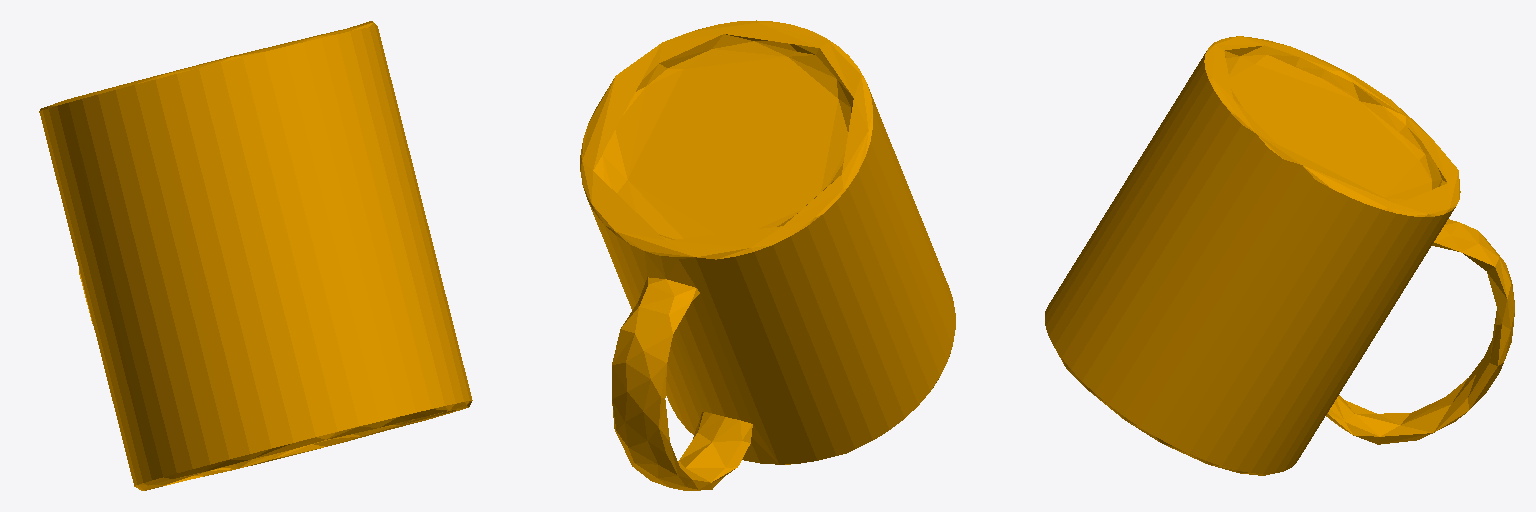
The robot description file, URDF, robot "e94e46bc5833f2f5e57b873e4f3ef3a4":
<?xml version="1.0"?>
<robot name="e94e46bc5833f2f5e57b873e4f3ef3a4">
  <link name="base_link">
    <contact>
      <lateral_friction value="1.0"/>
      <rolling_friction value="0.0"/>
      <contact_cfm value="0.0"/>
      <contact_erp value="1.0"/>
    </contact>
    <inertial>
      <mass value="0.00411882242086"/>
      <inertia ixx="1" ixy="0" ixz="0" iyy="1" iyz="0" izz="1"/>
    </inertial>
    <visual>
      <geometry>
        <mesh filename="e94e46bc5833f2f5e57b873e4f3ef3a4_visual.obj"/>
      </geometry>
    </visual>
    <collision>
      <geometry>
        <mesh filename="e94e46bc5833f2f5e57b873e4f3ef3a4_collision.obj"/>
      </geometry>
    </collision>
  </link>
</robot>

--- Render facts (derived) ---
Views: 3 orthographic renders of the robot side by side, from view 1: azimuth 30°, elevation 25°; view 2: azimuth 150°, elevation 25°; view 3: azimuth 270°, elevation 25°.
Model e94e46bc5833f2f5e57b873e4f3ef3a4 with 1 links and 0 joints (none), rooted at base_link, posed all joints at 0.
Visible links, largest first — view 1: base_link; view 2: base_link; view 3: base_link.
Link boxes in pixels (x1,y1,x2,y2): base_link: [39, 21, 472, 490]; base_link: [580, 20, 955, 490]; base_link: [1045, 36, 1514, 475].
Bounding box of the posed robot: 0.0306 × 0.0489 × 0.0447 m (x, y, z).
Meshes: 1 distinct files referenced, 1 mesh visuals loaded (1 OBJ).